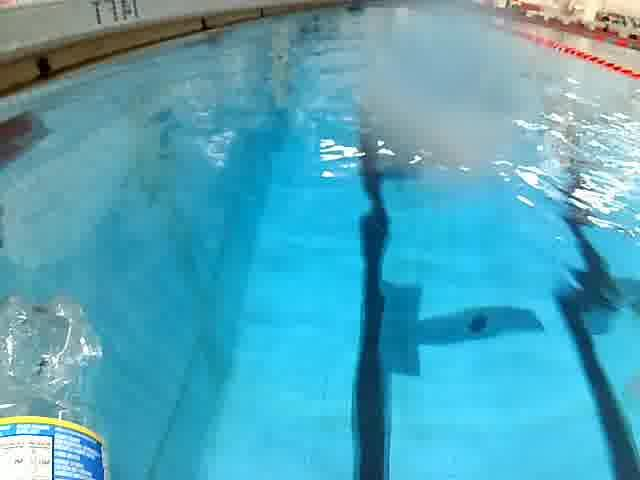Bottle: (0, 266, 127, 480)
